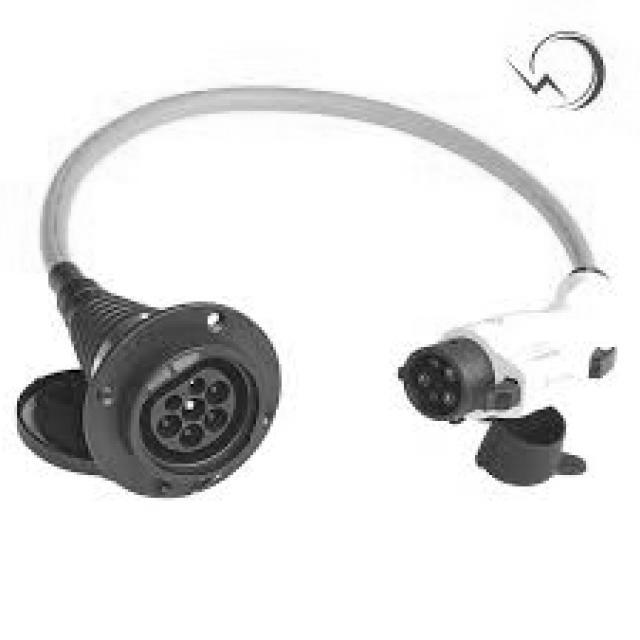Type 2: (91, 346, 261, 548)
